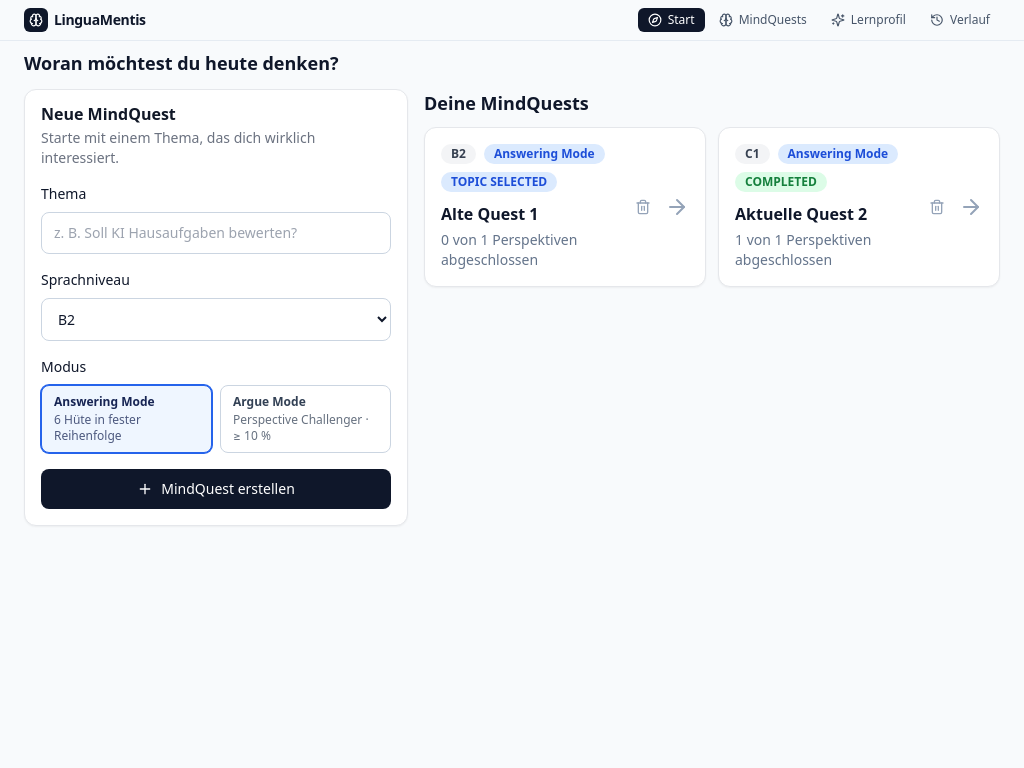
Test: Frontend pages (Home, MindQuests list, Reflection, Learning, History) › MindQuestsPage deletes an individual MindQuest from the list without navigating
The width and height of the screenshot is (1024, 768).
Expected: the heading "Alte Quest 1" is shown, [441,203,538,225]
Expected: the heading "Aktuelle Quest 2" is shown, [735,203,867,225]
Click the button named "MindQuest \"Alte Quest 1\" löschen".
click(643, 207)  # box [627,191,659,223]
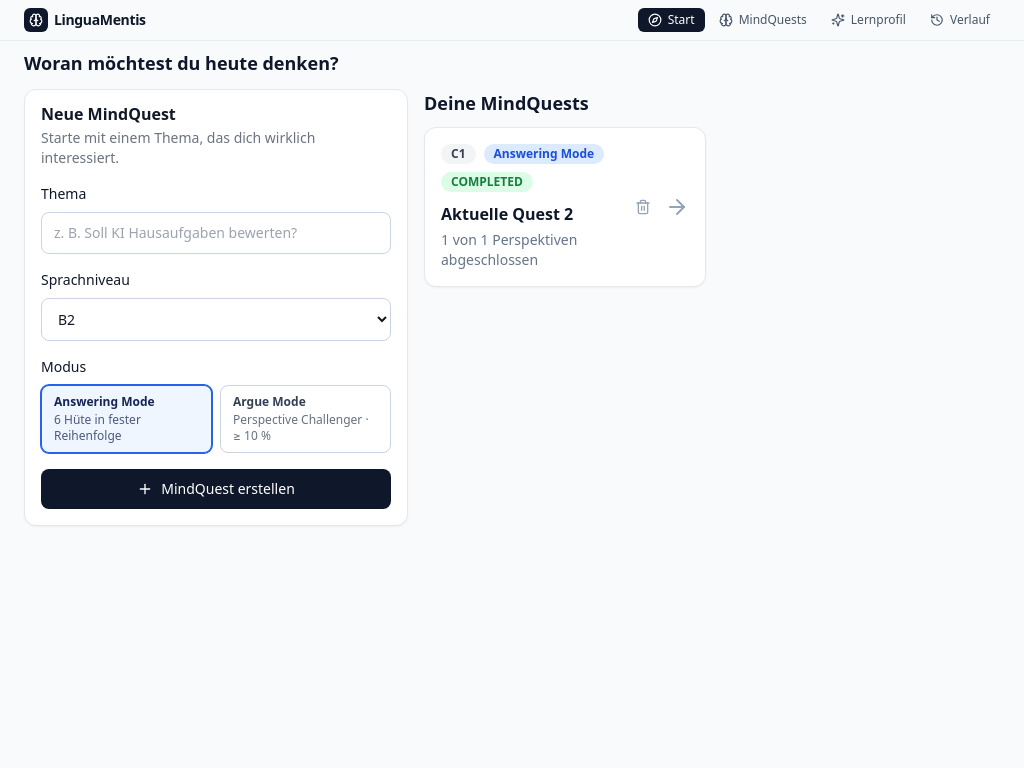
Expected: the heading "Aktuelle Quest 2" is shown, [441,203,573,225]
Now the link "Alte Quest 1" is gone
